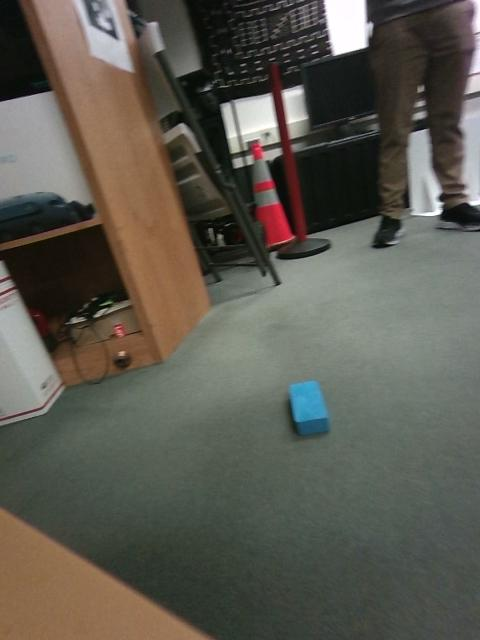block: (249, 338, 296, 387)
